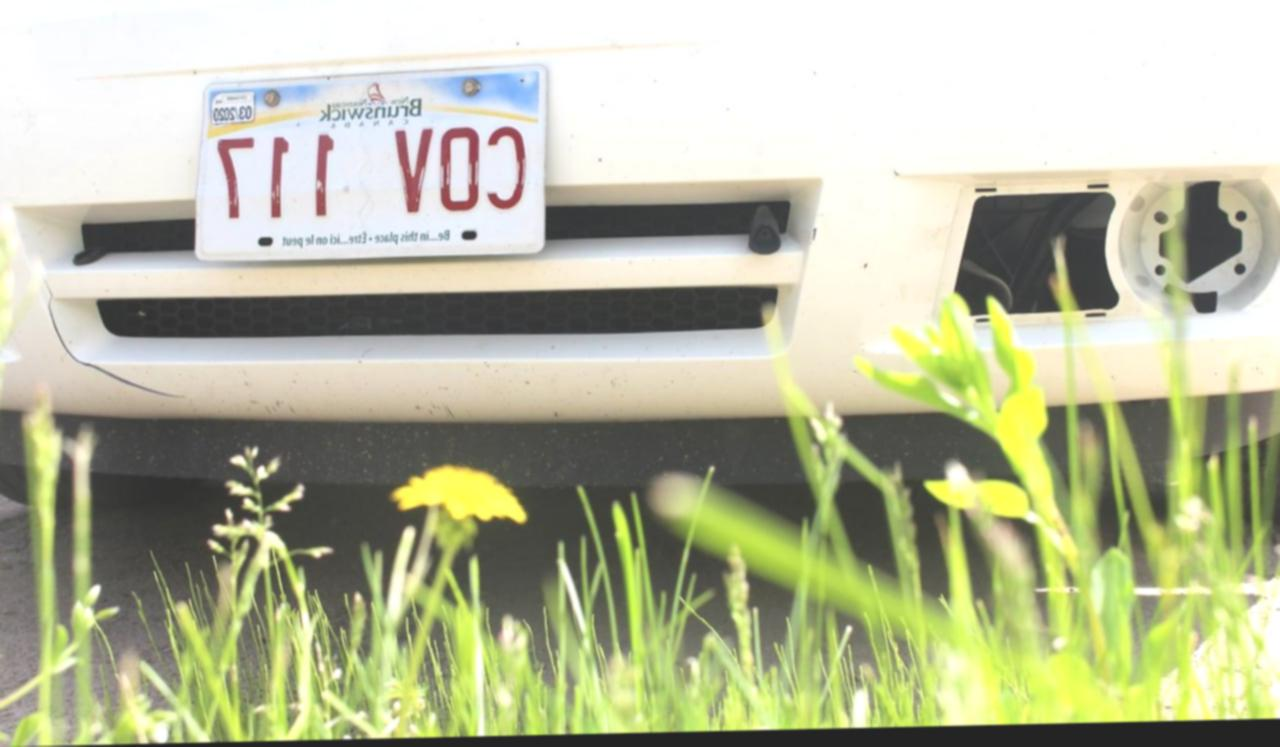License_Plate: (191, 57, 547, 268)
